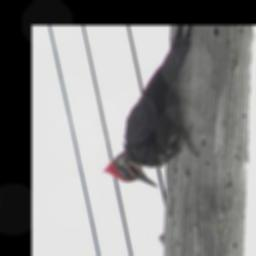Woodpecker: (101, 26, 201, 190)
